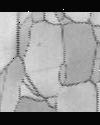good_void: (36, 43, 40, 48)
